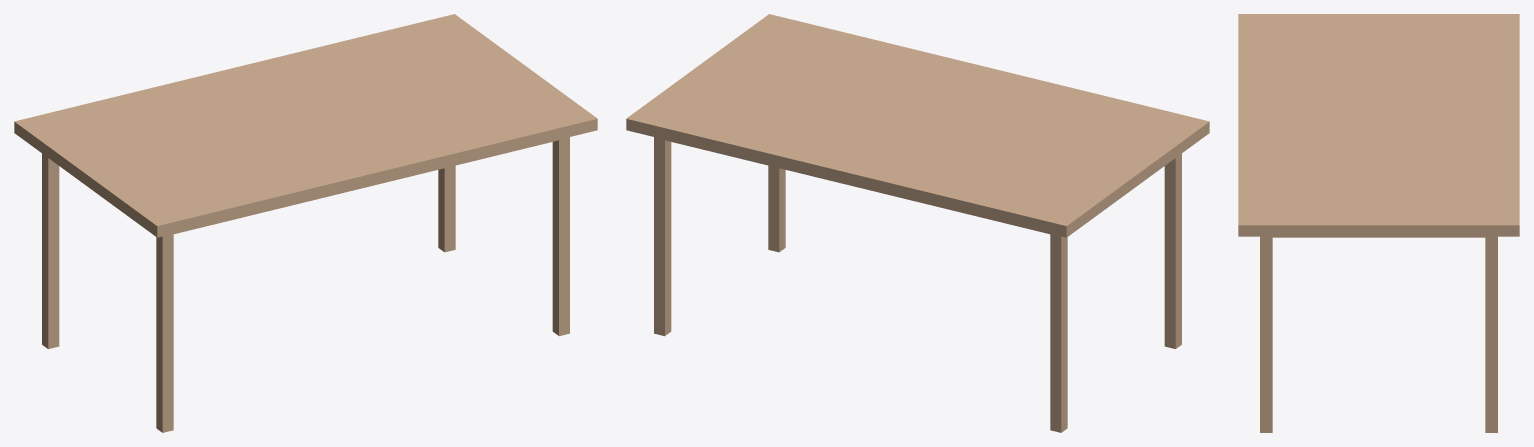
The model's file is diningtable.glb.
3 renders of one model, left to right at view 1: azimuth 30°, elevation 25°; view 2: azimuth 150°, elevation 25°; view 3: azimuth 270°, elevation 25°, orthographic.
Visible parts, largest first — view 1: Table; view 2: Table; view 3: Table.
Part boxes in pixels (x1,y1,x2,y2): Table: (14,14,597,432); Table: (626,14,1209,432); Table: (1238,14,1519,432).
Size of the model in its own units: 1.6 by 0.76 by 0.9.
